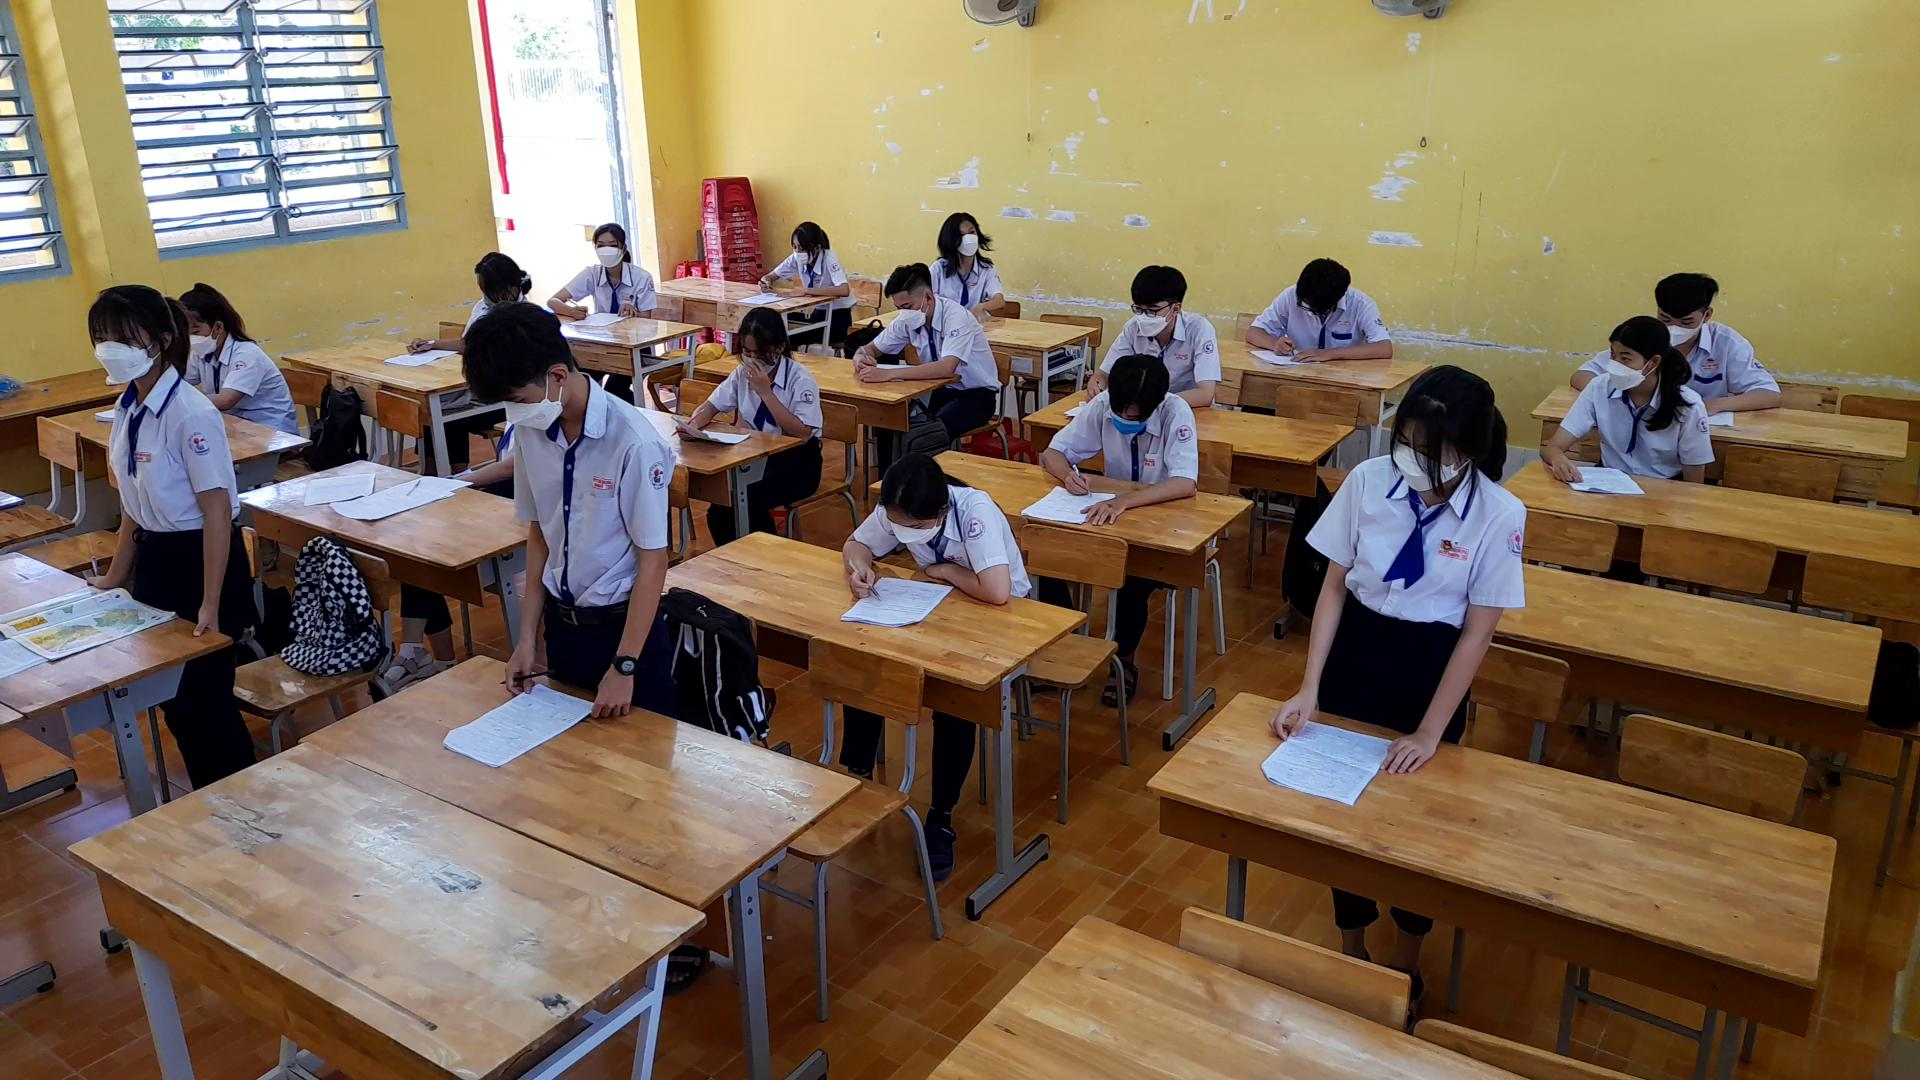Hand Under Table: (1669, 375, 1716, 497)
Normal: (837, 436, 1030, 617), (1033, 348, 1203, 527), (839, 257, 990, 386), (1242, 251, 1393, 380), (740, 196, 855, 309), (549, 223, 665, 334)
Stand Up: (1255, 353, 1534, 774), (451, 297, 679, 725), (66, 273, 241, 647)
Wave: (741, 361, 828, 443)
